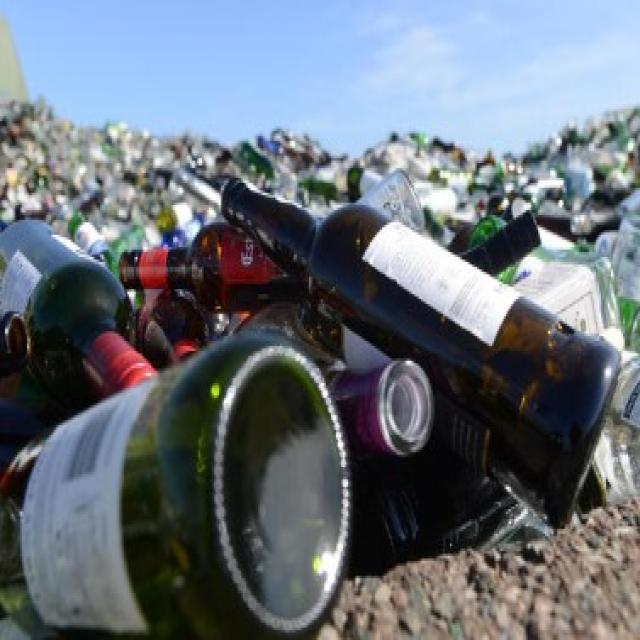electronic: (0, 168, 621, 640)
